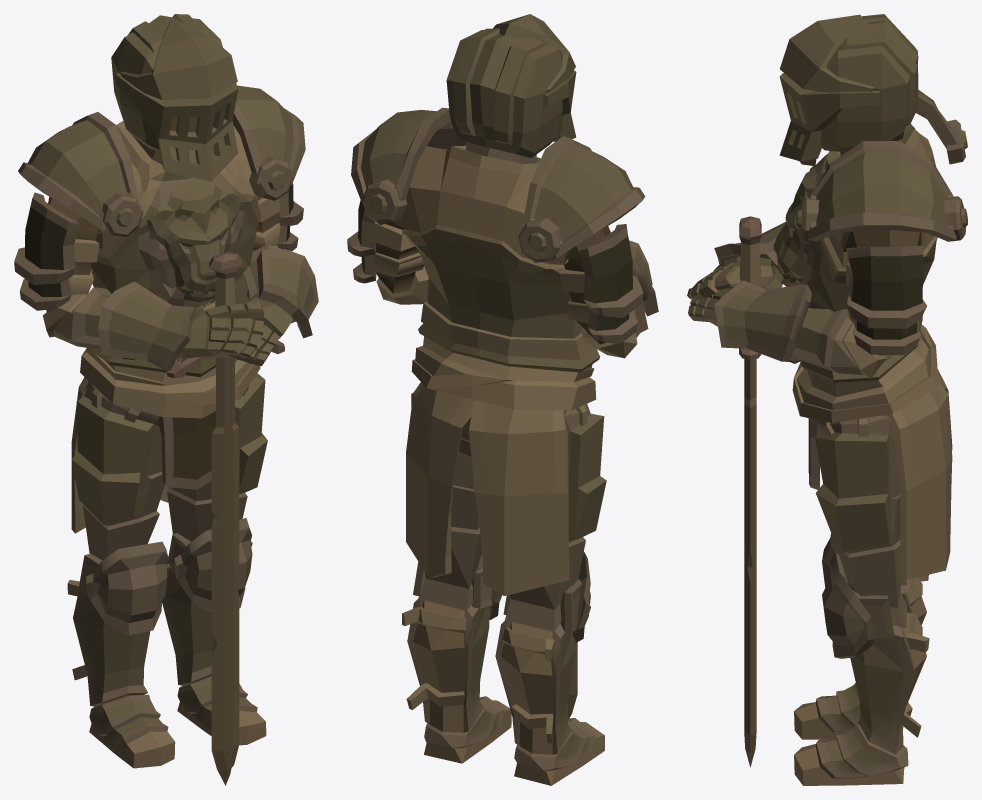
The model's file is dungeon_SM_Prop_KnightStand_01.gltf.
3 renders of one model, left to right at view 1: azimuth 30°, elevation 25°; view 2: azimuth 150°, elevation 25°; view 3: azimuth 270°, elevation 25°, orthographic. The views are drawn at different scales.
Visible parts, largest first — view 1: SM_Prop_KnightStand_01; view 2: SM_Prop_KnightStand_01; view 3: SM_Prop_KnightStand_01.
Part boxes in pixels (x1,y1,x2,y2): SM_Prop_KnightStand_01: (14,14,318,785); SM_Prop_KnightStand_01: (347,14,658,785); SM_Prop_KnightStand_01: (687,14,967,785).
Size of the model in its own units: 0.7141 by 1.84 by 0.6207.
1 material, 1 textured.
